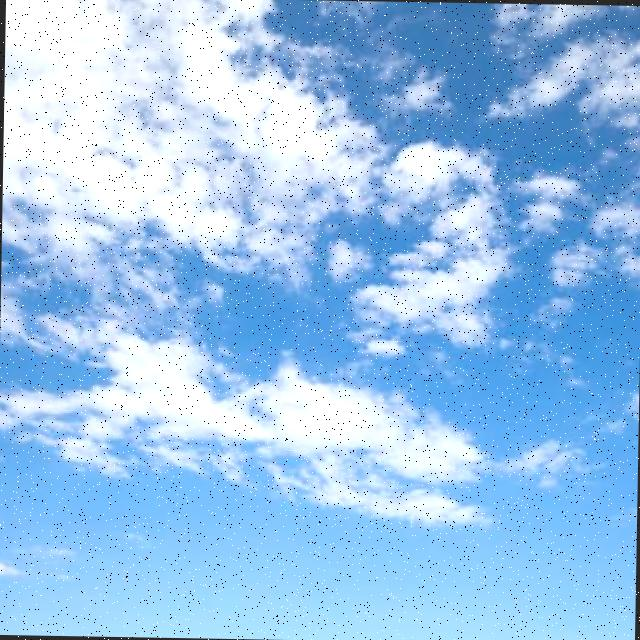Ac: (1, 4, 640, 522)
